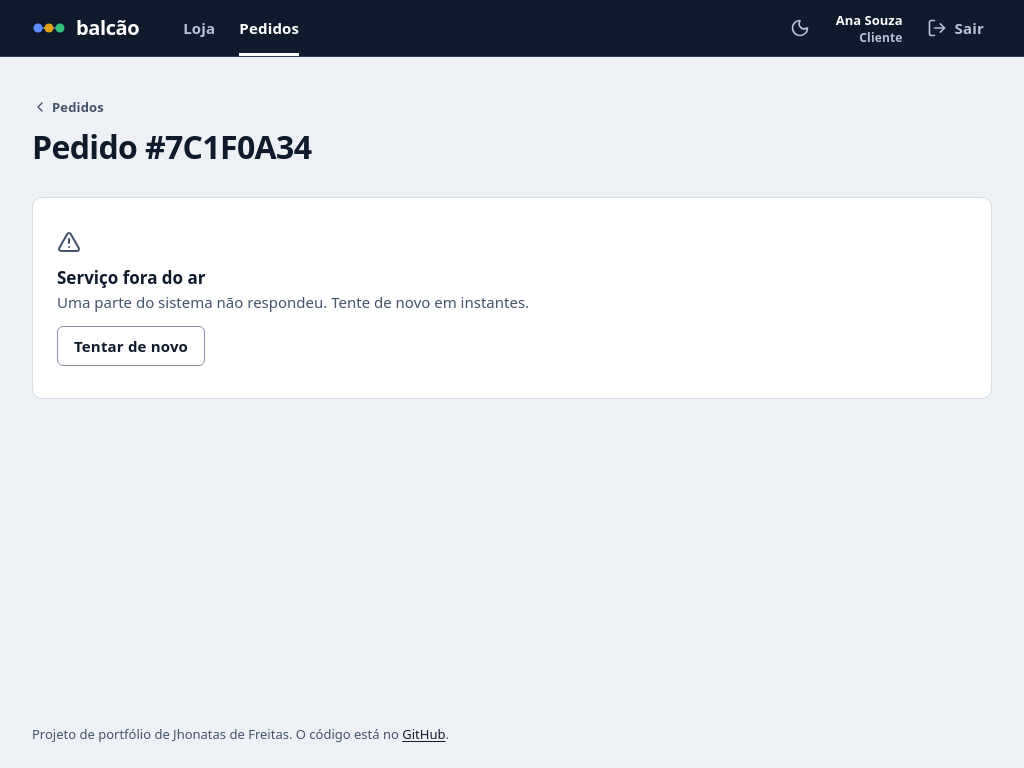
Test case: error state, one per screen › orderDetailOffersRetryWhenTheOrderFailsToLoad
Click the button "Tentar de novo": (131, 346) [57, 326, 205, 366]
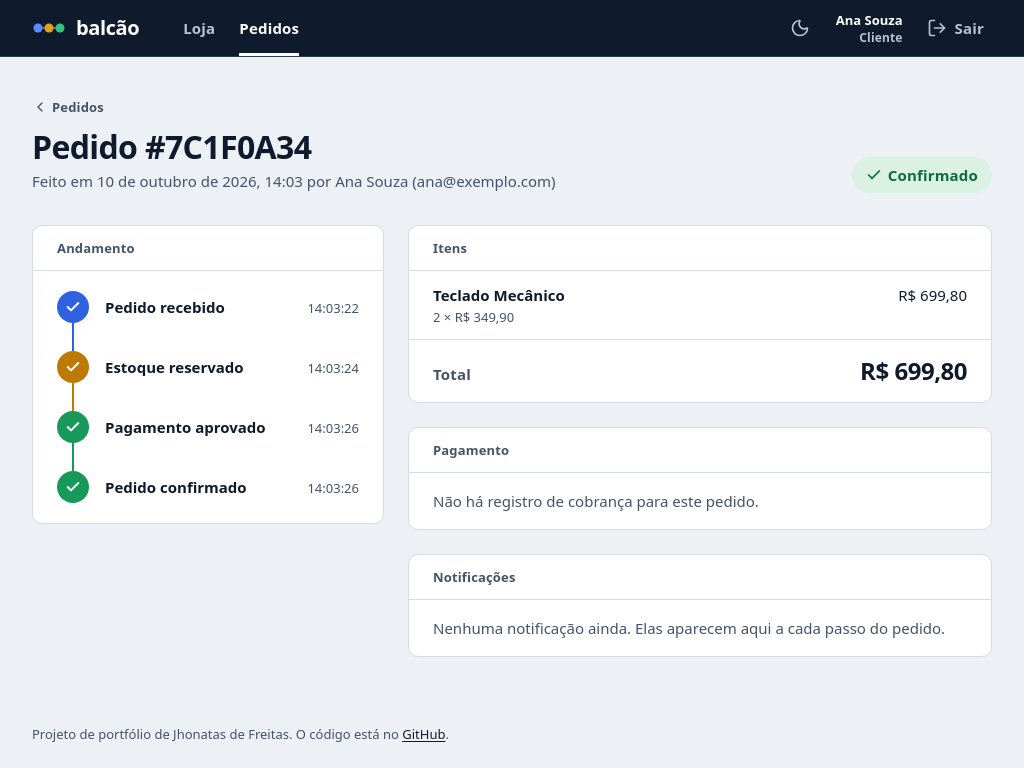
Result: the list named "Andamento do pedido" is shown at [57, 291, 359, 503]
